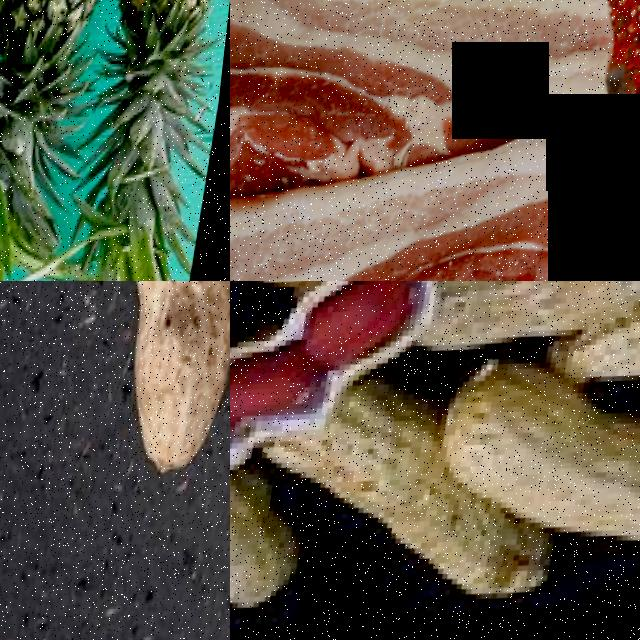peanuts: (451, 361, 640, 513), (322, 380, 463, 571), (105, 281, 230, 484), (405, 512, 577, 624), (230, 469, 318, 625)
pineapple: (97, 0, 230, 149), (0, 0, 142, 139)
pork belly: (230, 0, 640, 216), (230, 137, 624, 281)
